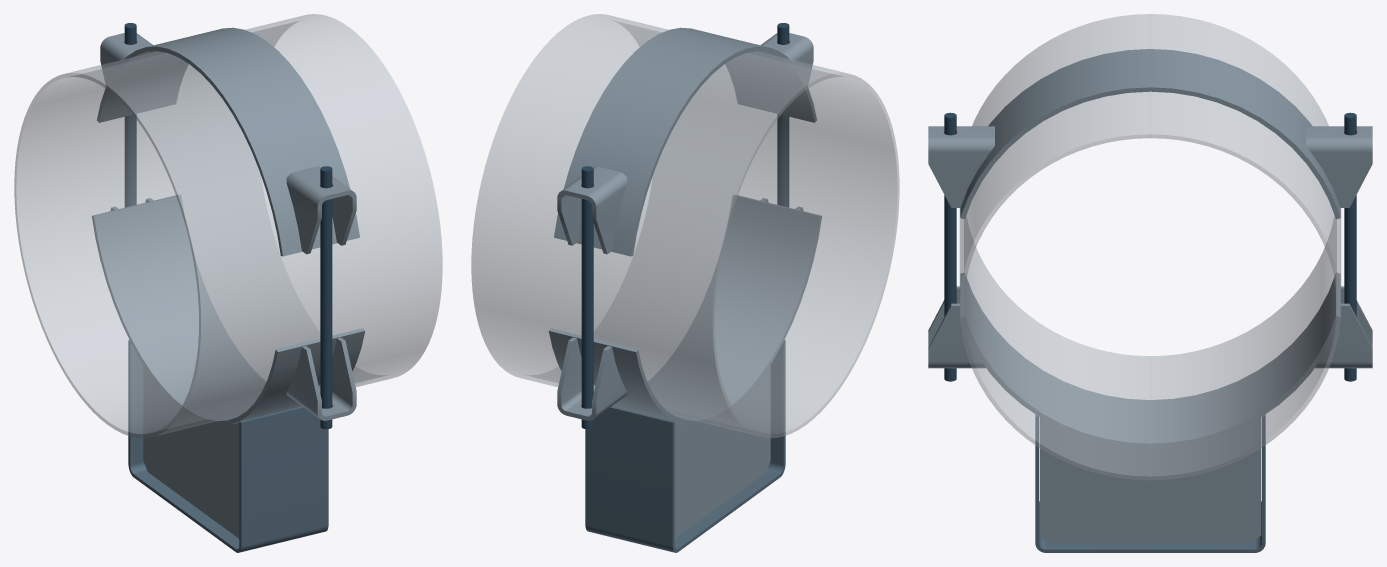
The model's file is TS-627.00.000-014-opora-dn630-H200-L170.glb.
3 renders of one model, left to right at view 1: azimuth 30°, elevation 25°; view 2: azimuth 150°, elevation 25°; view 3: azimuth 270°, elevation 25°, orthographic. The views are drawn at different scales.
Parts seen in each view (by area): view 1: truba, podushka_3, bugel0_podushka_0, skoba_0, rebro4_1, bugel0_ushko_2, ushko_5, shpilka_0_-1, shpilka_0_1, bugel0_ushko_1; view 2: truba, podushka_3, bugel0_podushka_0, skoba_0, rebro4_1, bugel0_ushko_1, ushko_4, shpilka_0_1, shpilka_0_-1, bugel0_ushko_2; view 3: truba, rebro4_2, podushka_3, bugel0_podushka_0, bugel0_ushko_1, bugel0_ushko_2, skoba_0, ushko_4, ushko_5, shpilka_0_1, shpilka_0_-1.
Part boxes in pixels (bbox=[...]): truba: bbox=[14, 14, 442, 438]; podushka_3: bbox=[92, 195, 365, 425]; bugel0_podushka_0: bbox=[97, 27, 359, 256]; skoba_0: bbox=[128, 340, 328, 552]; rebro4_1: bbox=[143, 365, 239, 538]; bugel0_ushko_2: bbox=[286, 166, 356, 254]; ushko_5: bbox=[286, 337, 356, 420]; shpilka_0_-1: bbox=[320, 166, 332, 429]; shpilka_0_1: bbox=[124, 23, 136, 207]; bugel0_ushko_1: bbox=[100, 33, 152, 85]; truba: bbox=[471, 14, 899, 438]; podushka_3: bbox=[548, 195, 821, 425]; bugel0_podushka_0: bbox=[554, 27, 816, 256]; skoba_0: bbox=[585, 340, 785, 552]; rebro4_1: bbox=[674, 365, 770, 538]; bugel0_ushko_1: bbox=[557, 166, 627, 254]; ushko_4: bbox=[557, 337, 627, 420]; shpilka_0_1: bbox=[581, 166, 593, 429]; shpilka_0_-1: bbox=[777, 23, 789, 207]; bugel0_ushko_2: bbox=[761, 33, 813, 85]; truba: bbox=[959, 14, 1341, 480]; rebro4_2: bbox=[1039, 417, 1261, 543]; podushka_3: bbox=[960, 273, 1340, 447]; bugel0_podushka_0: bbox=[960, 49, 1340, 219]; bugel0_ushko_1: bbox=[1306, 126, 1372, 207]; bugel0_ushko_2: bbox=[928, 126, 994, 207]; skoba_0: bbox=[1035, 414, 1265, 552]; ushko_4: bbox=[1315, 286, 1372, 368]; ushko_5: bbox=[928, 286, 985, 368]; shpilka_0_1: bbox=[1344, 112, 1356, 381]; shpilka_0_-1: bbox=[944, 112, 956, 381].
Bounding box in the file's own units: 470 × 843 × 733.
